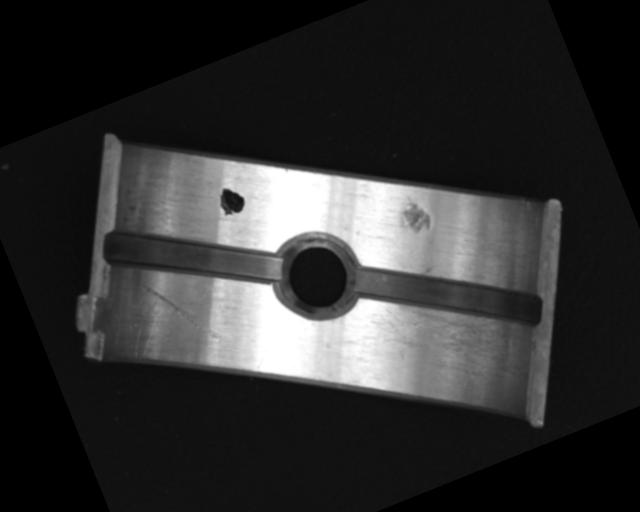blot: (213, 182, 249, 219)
bruise: (394, 190, 435, 239)
gap: (348, 208, 548, 383), (97, 176, 287, 335)
hole: (265, 222, 368, 332)
nick: (143, 264, 224, 362)
scratch: (369, 267, 529, 414)
